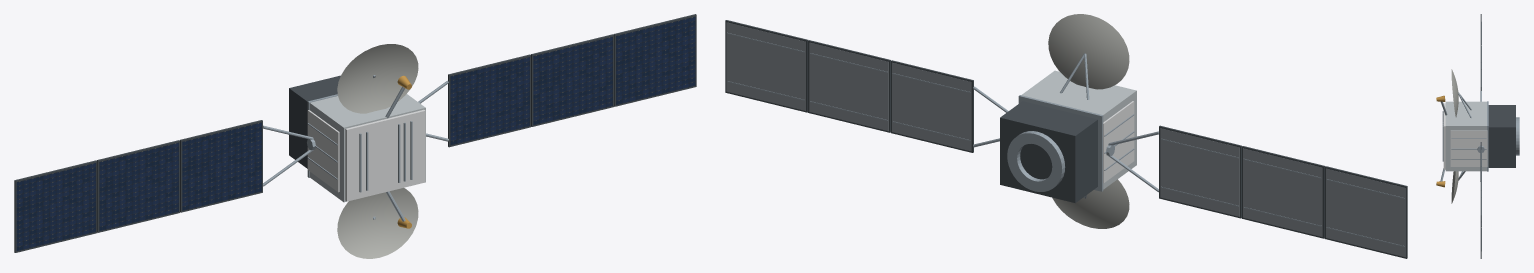
File: ref-smallgeo-41942.glb
3 views of the same model, side by side, from view 1: azimuth 30°, elevation 25°; view 2: azimuth 150°, elevation 25°; view 3: azimuth 270°, elevation 25° (orthographic). The views are drawn at different scales.
Visible parts, largest first — view 1: Solar cell panel (×6), Communications reflector (×2), Earth-facing deck, Solar panel frame (×6), Payload module, Service module, Radiator face; view 2: Rear array substrate (×6), Communications reflector (×2), Service module, Solar panel frame (×6), Payload module, Launch adapter ring, Radiator face, Module interface; view 3: Service module, Payload module, Radiator face, Communications reflector (×2), Earth-facing deck, Launch adapter ring, Module interface, Solar panel frame, Deck heat pipe.
Part boxes in pixels (x1,y1,x2,y2): Solar cell panel (×6): (16, 16, 695, 251); Communications reflector (×2): (337, 44, 418, 258); Earth-facing deck: (345, 109, 425, 201); Solar panel frame (×6): (14, 14, 696, 252); Payload module: (309, 94, 425, 202); Service module: (289, 75, 340, 168); Radiator face: (307, 110, 339, 192); Rear array substrate (×6): (726, 22, 1405, 257); Communications reflector (×2): (1048, 14, 1129, 228); Service module: (1000, 101, 1097, 203); Solar panel frame (×6): (725, 20, 1407, 258); Payload module: (1021, 70, 1136, 189); Launch adapter ring: (1007, 131, 1065, 191); Radiator face: (1103, 101, 1134, 183); Module interface: (1018, 95, 1103, 191); Service module: (1488, 105, 1515, 167); Payload module: (1445, 101, 1486, 171); Radiator face: (1450, 130, 1487, 166); Communications reflector (×2): (1451, 69, 1458, 203); Earth-facing deck: (1443, 103, 1445, 169); Launch adapter ring: (1516, 117, 1519, 155); Module interface: (1487, 101, 1488, 171); Solar panel frame: (1480, 191, 1481, 258); Deck heat pipe: (1442, 126, 1443, 161).
Bounding box in the file's own units: 20.77 × 6.19 × 3.63.
Materials: 8 (1 with a texture image).
